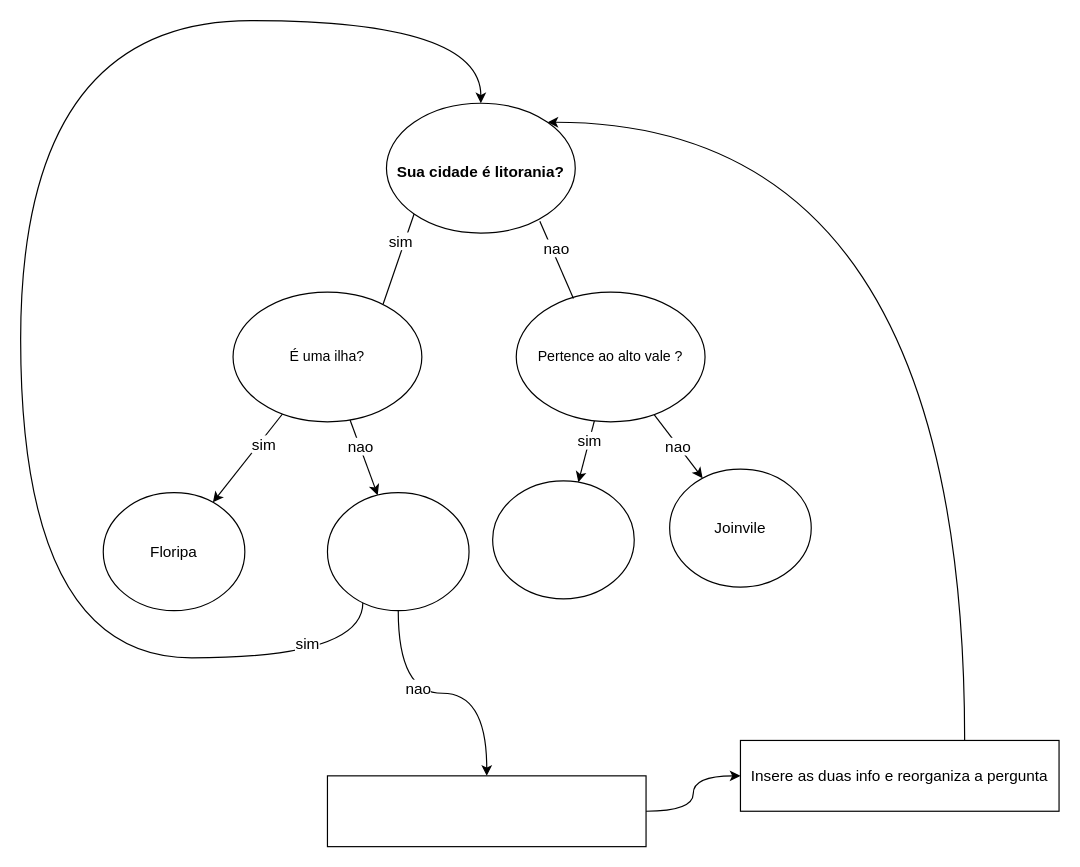
Some shapes in this 1080 by 867 pixel diagram are drawn without their labels. The shapes that lost their labels are listed below. From the top down, each one's box as (x1, y1, x2, y2) in pixels, then its label:
(326, 491, 469, 611): bombinhas
(491, 480, 634, 599): Rio do sul
(326, 775, 646, 847): Nome da ciadade: Pergunta:
